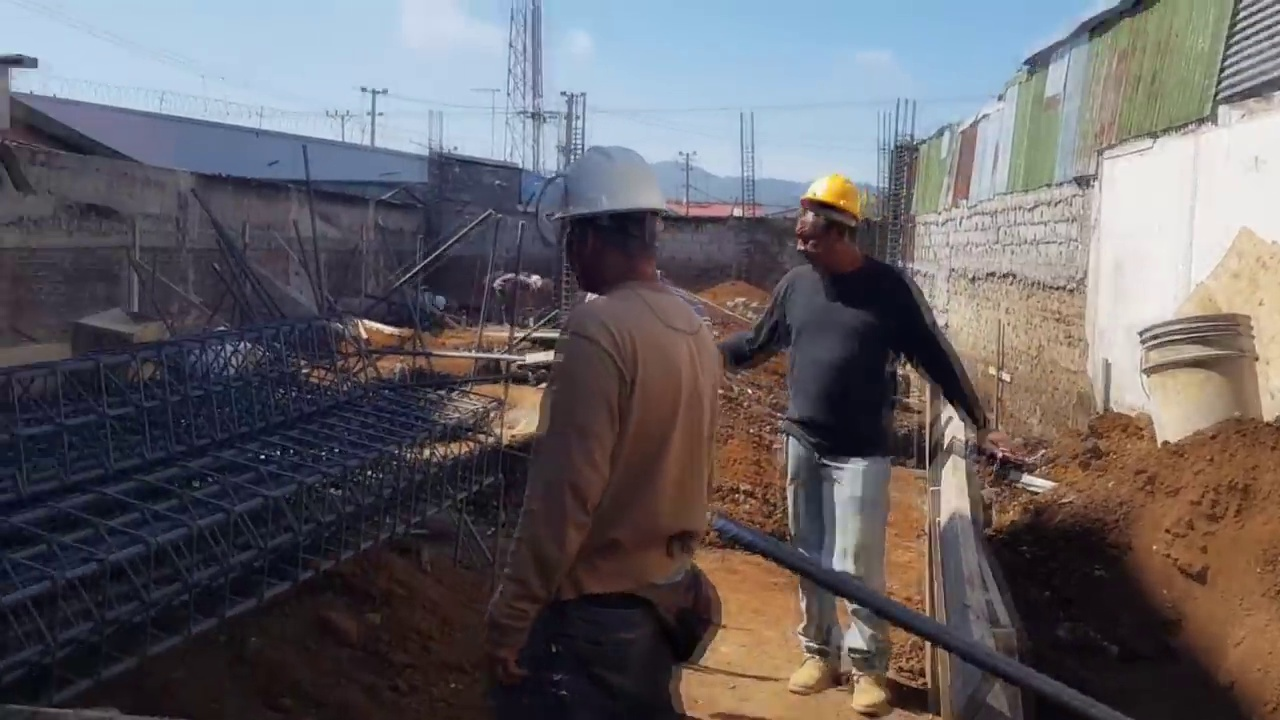helmet: (553, 137, 678, 244), (795, 176, 866, 225)
helmet-on: (552, 141, 675, 304), (799, 174, 869, 282)
person: (688, 168, 992, 712), (482, 128, 731, 696)
